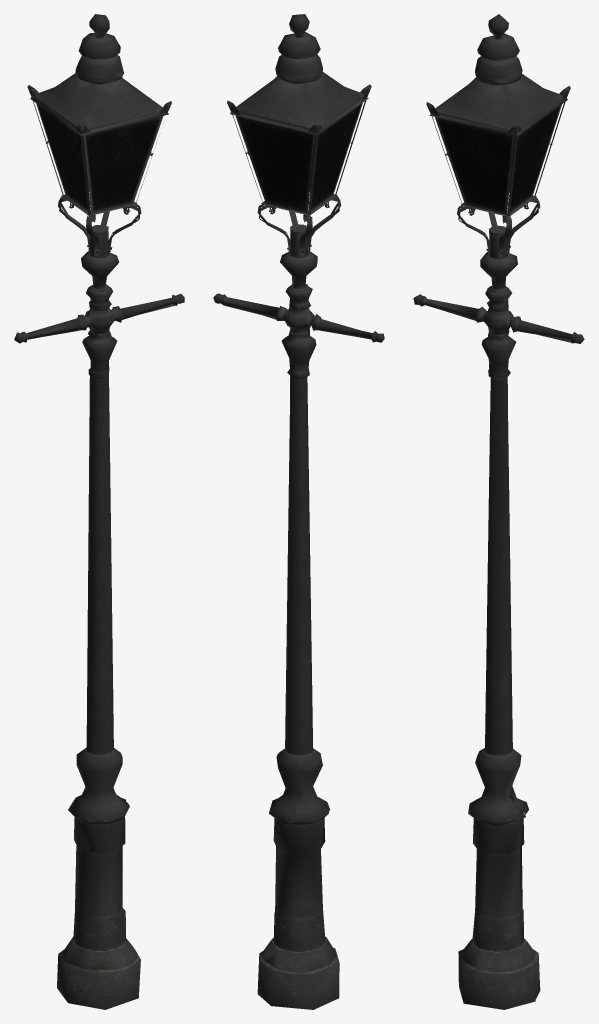
Rendered from street_lamp_01.glb.
3 renders of one model, left to right at view 1: azimuth 30°, elevation 25°; view 2: azimuth 150°, elevation 25°; view 3: azimuth 330°, elevation 25°, orthographic.
Parts seen in each view (by area): view 1: street_lamp_01; view 2: street_lamp_01; view 3: street_lamp_01.
Boxes of the visible parts, x1,y1,x2,y2 form: street_lamp_01: [14, 14, 184, 1009]; street_lamp_01: [213, 14, 384, 1009]; street_lamp_01: [413, 14, 584, 1009].
Size of the model in its own units: 0.7081 by 3.87 by 0.3839.
Materials: 3 (3 with a texture image).
